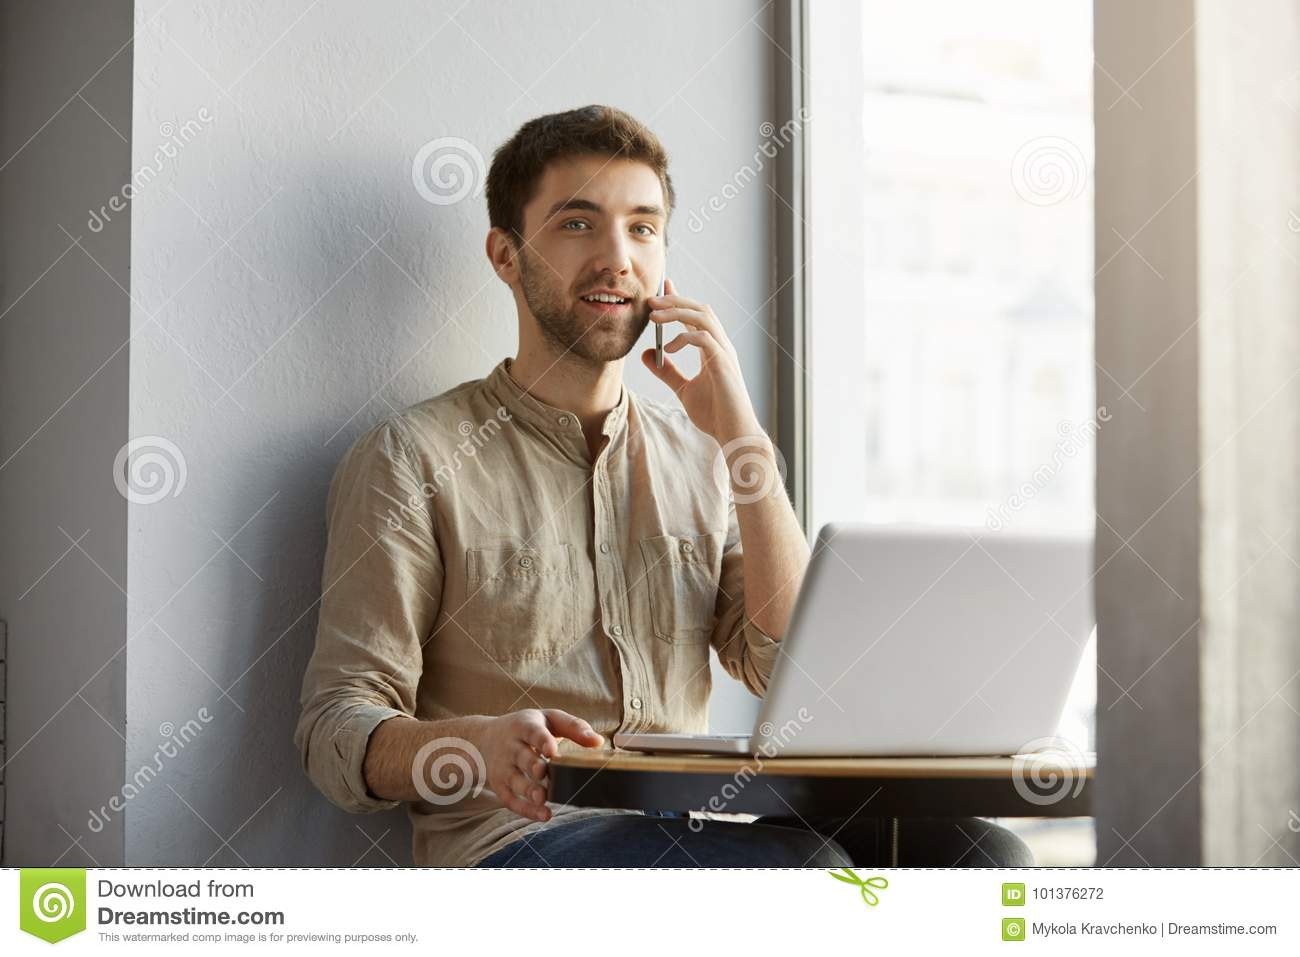phone: (646, 254, 677, 377)
talk: (542, 194, 745, 435)
